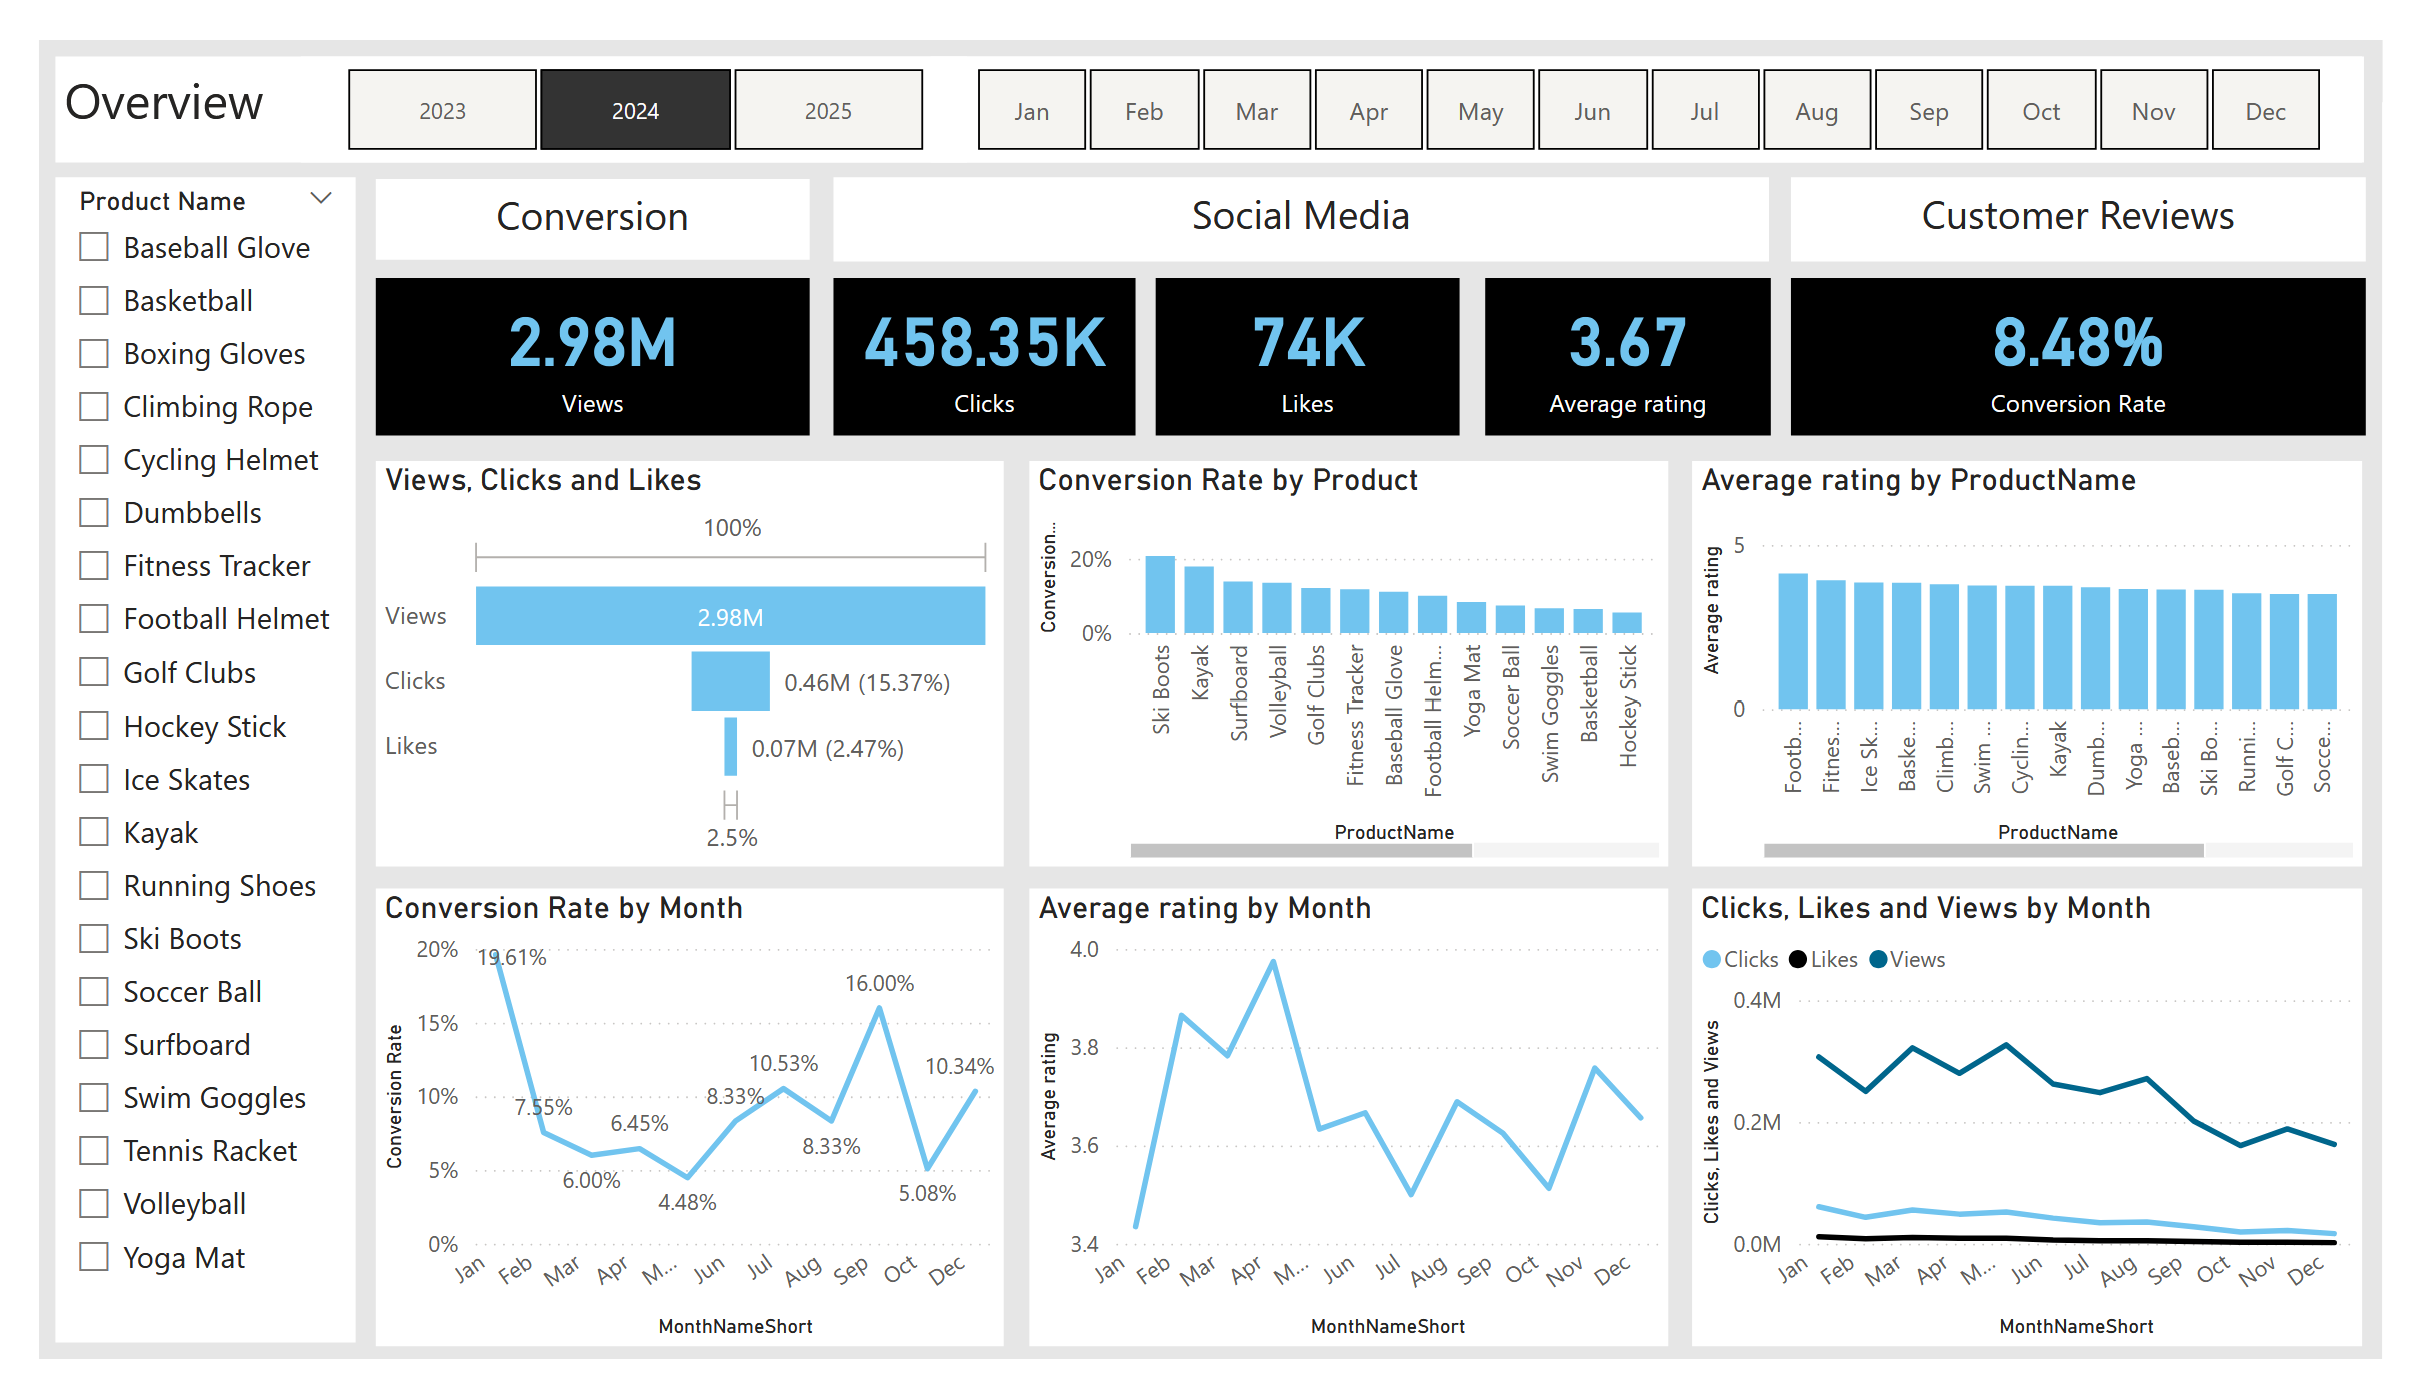

Layout of this report page (visuals, bound fields, positions):
{"tool":"powerbi","page":{"name":"Overview","canvas":[1280,720],"ordinal":0},"visuals":[{"type":"textbox","box":[8.6,8.6,1260,58.6],"z":0},{"type":"slicer","fields":{"Values":["product_lookup.ProductName"]},"box":[8.8,75,163.8,636.2],"z":1000},{"type":"textbox","box":[184.3,75.7,237.1,44.3],"z":2000},{"type":"textbox","box":[433.7,75.1,511.5,46.1],"z":3000},{"type":"textbox","box":[957,75.1,313.7,46.1],"z":4000},{"type":"card","fields":{"Values":["Measures Table (2).Views"]},"box":[184.3,130,237.1,85.7],"z":5000},{"type":"card","fields":{"Values":["Measures Table (2).Conversion Rate"]},"box":[957.1,130,314.3,85.7],"z":6000},{"type":"card","fields":{"Values":["Measures Table (2).Clicks"]},"box":[434.3,130,164.3,85.7],"z":7000},{"type":"card","fields":{"Values":["Measures Table (2).Likes"]},"box":[610,130,165.7,85.7],"z":8000},{"type":"card","fields":{"Values":["Measures Table (2).Average rating"]},"box":[790,130,155.7,85.7],"z":9000},{"type":"slicer","fields":{"Values":["Calendar.Year"]},"box":[142.9,8.6,364.3,58.6],"z":10000},{"type":"slicer","fields":{"Values":["Calendar.MonthNameShort"]},"box":[487.1,8.6,782.9,58.6],"z":11000},{"type":"funnel","fields":{"Y":["Measures Table (2).Views","Measures Table (2).Clicks","Measures Table (2).Likes"]},"box":[184.3,230,342.9,221.4],"z":12000},{"type":"columnChart","title":"Conversion Rate by Product","fields":{"Category":["product_lookup.ProductName"],"Y":["Measures Table (2).Conversion Rate"]},"box":[541.4,230,348.6,221.4],"z":13000},{"type":"columnChart","fields":{"Category":["product_lookup.ProductName"],"Y":["Measures Table (2).Average rating"]},"box":[902.9,230,365.7,221.4],"z":14000},{"type":"lineChart","title":"Conversion Rate by Month","fields":{"Y":["Measures Table (2).Conversion Rate"],"Category":["Calendar.MonthNameShort"]},"box":[184.3,462.9,342.9,250],"z":15000},{"type":"lineChart","title":"Average rating by Month","fields":{"Category":["Calendar.MonthNameShort"],"Y":["Measures Table (2).Average rating"]},"box":[541,463,349,250],"z":16000},{"type":"lineChart","title":"Clicks, Likes and Views by Month","fields":{"Category":["Calendar.MonthNameShort"],"Y":["Measures Table (2).Clicks","Measures Table (2).Likes","Measures Table (2).Views"]},"box":[903,463,366,250],"z":17000}]}

Visuals, with their boxes in screenshot pixels (x1, y1, x2, y2), scaled from the page's 1280x720 canvas onto the 2420x1396 screenshot:
textbox: 16,17,2398,130
slicer - product_lookup.ProductName: 17,145,326,1379
textbox: 348,147,797,233
textbox: 820,146,1787,235
textbox: 1809,146,2402,235
card - Measures Table (2).Views: 348,252,797,418
card - Measures Table (2).Conversion Rate: 1810,252,2404,418
card - Measures Table (2).Clicks: 821,252,1132,418
card - Measures Table (2).Likes: 1153,252,1467,418
card - Measures Table (2).Average rating: 1494,252,1788,418
slicer - Calendar.Year: 270,17,959,130
slicer - Calendar.MonthNameShort: 921,17,2401,130
funnel - Measures Table (2).Views x Measures Table (2).Clicks: 348,446,997,875
"Conversion Rate by Product" columnChart: 1024,446,1683,875
columnChart - product_lookup.ProductName x Measures Table (2).Average rating: 1707,446,2398,875
"Conversion Rate by Month" lineChart: 348,898,997,1382
"Average rating by Month" lineChart: 1023,898,1683,1382
"Clicks, Likes and Views by Month" lineChart: 1707,898,2399,1382
